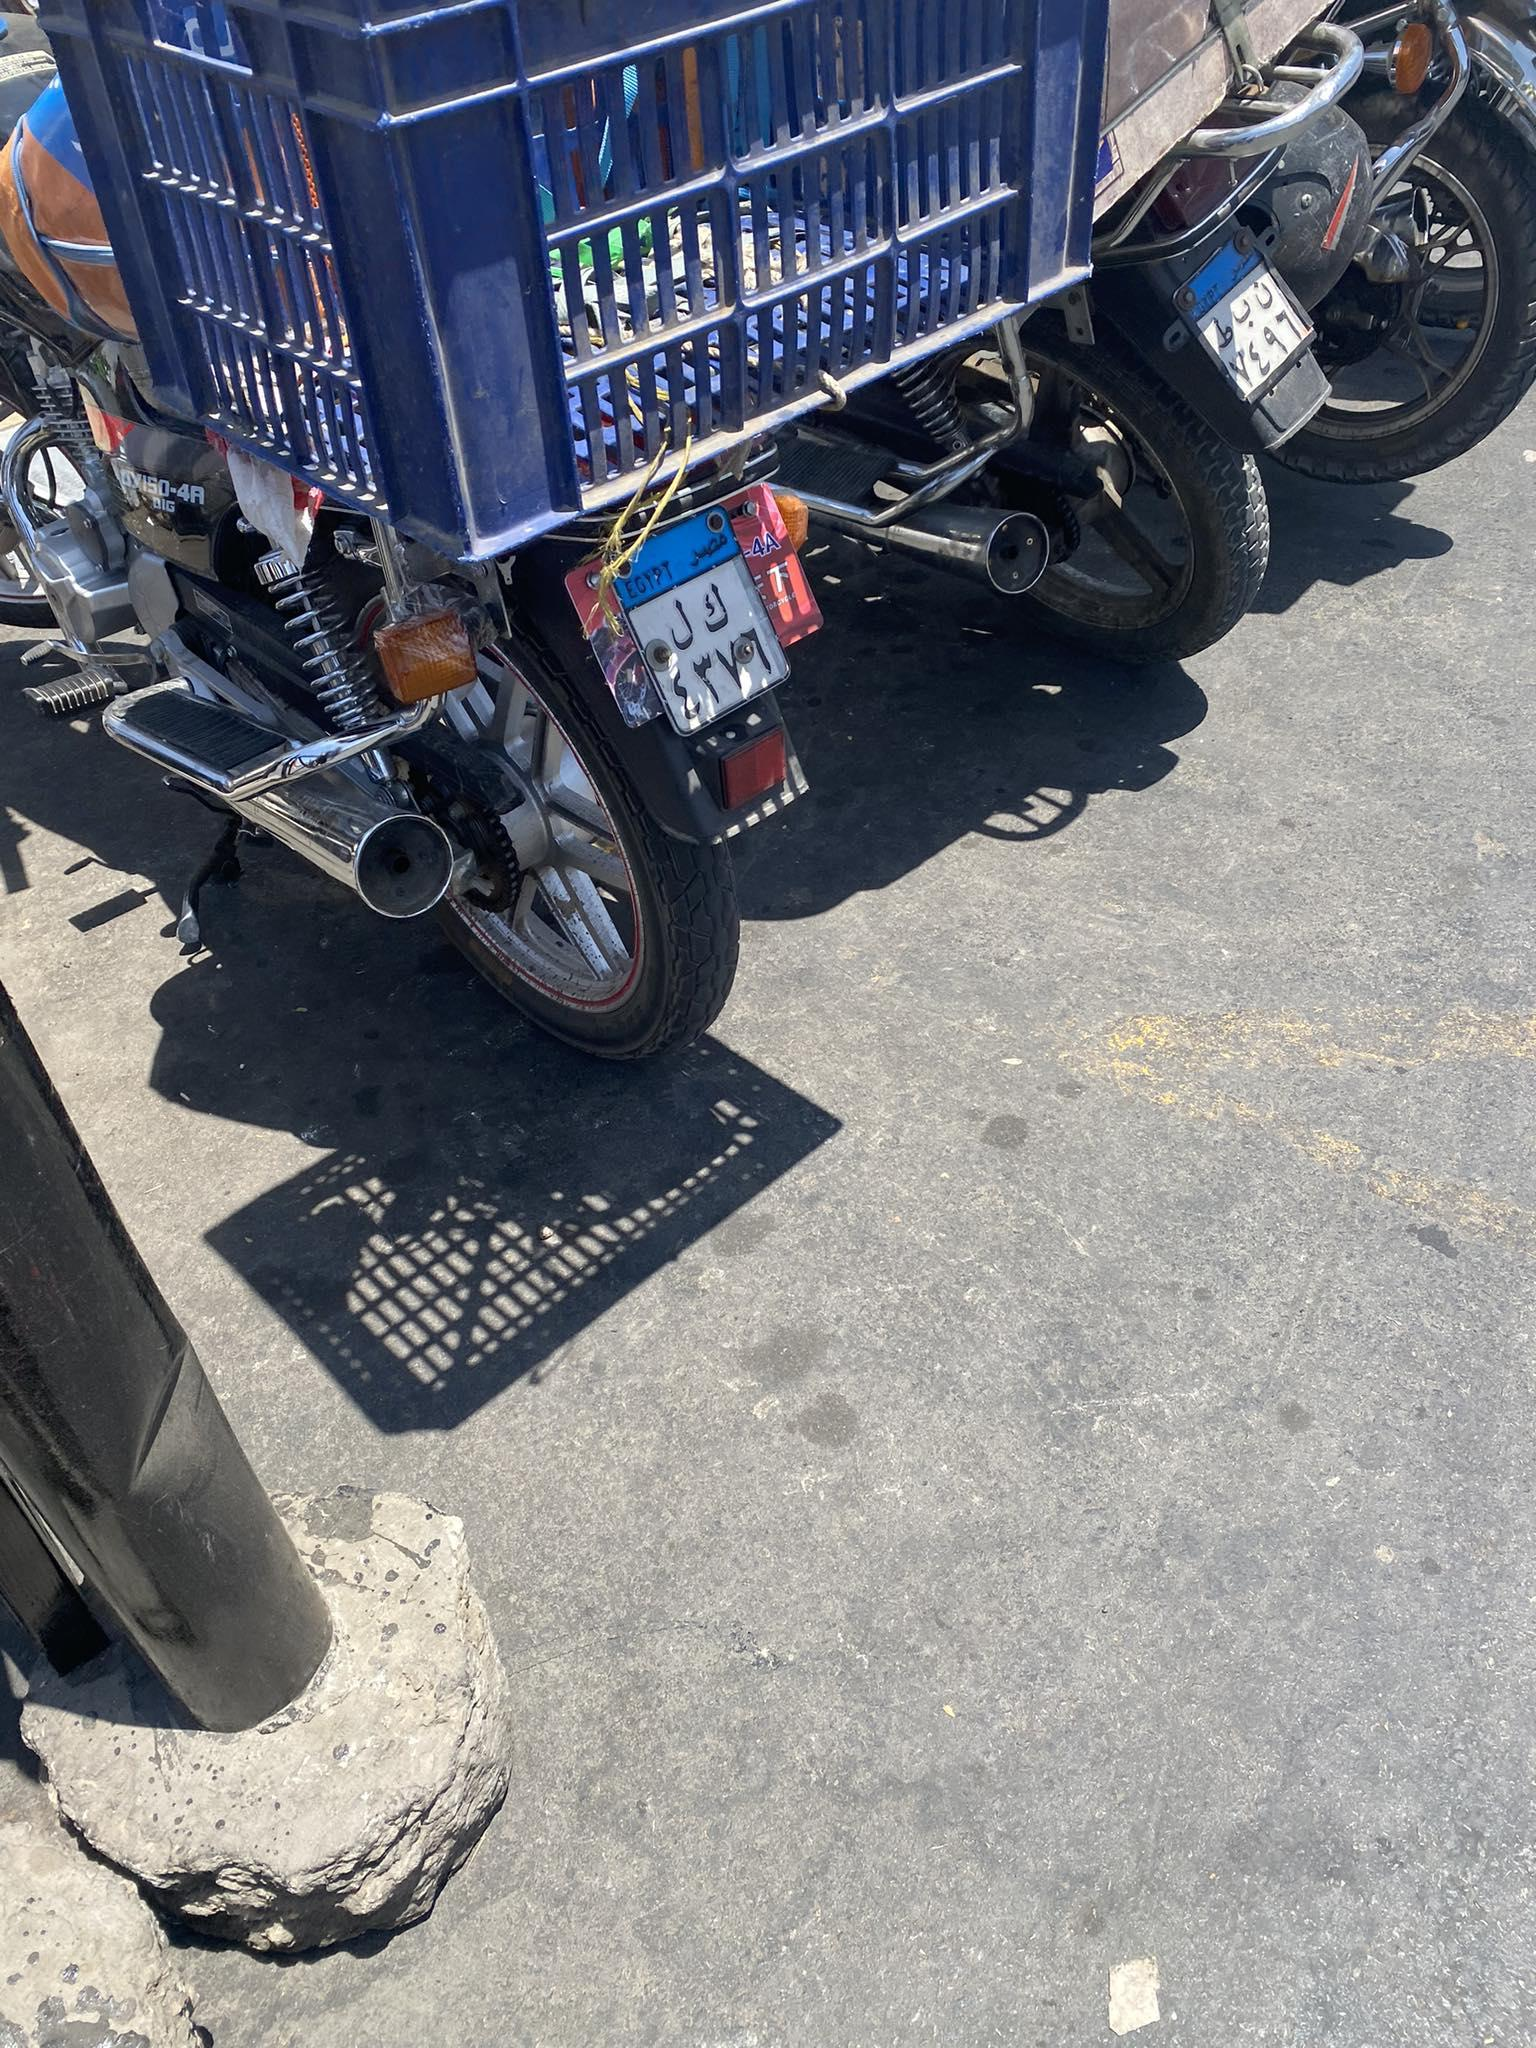License Plate: (618, 493, 789, 744), (1181, 235, 1324, 411)
